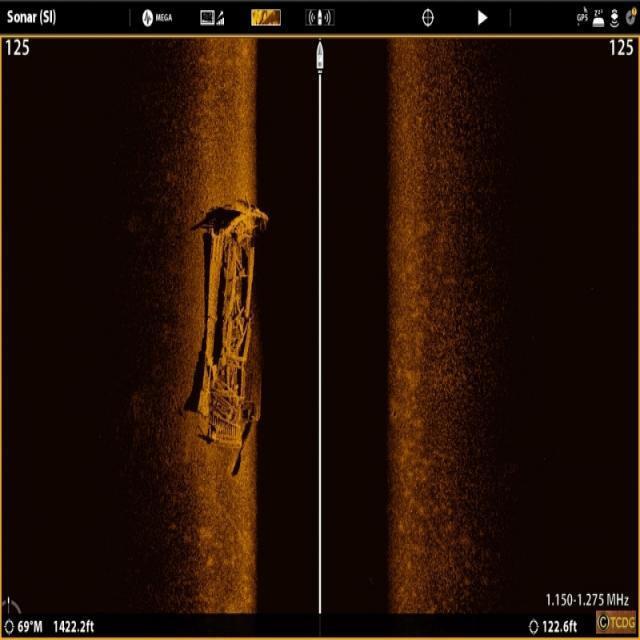shipwreck: (192, 190, 268, 450)
